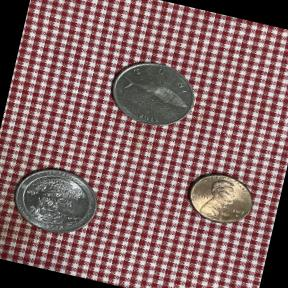coin: (94, 49, 208, 143), (1, 156, 109, 246), (176, 162, 264, 235)
